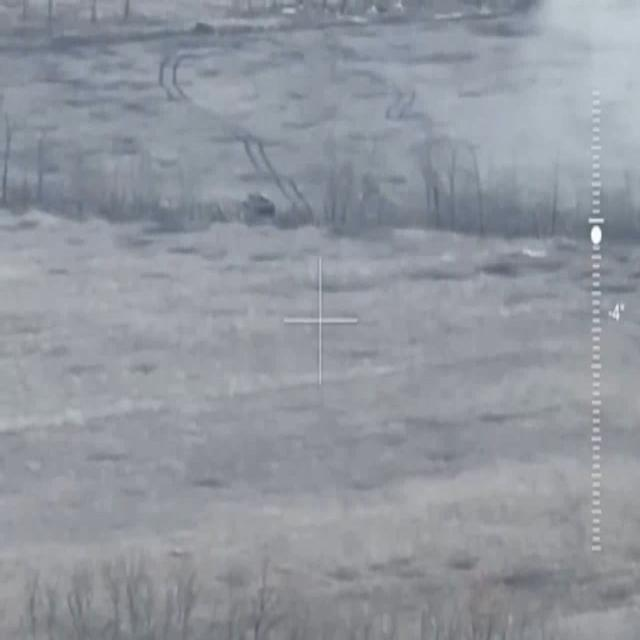MBT: (243, 191, 276, 216)
